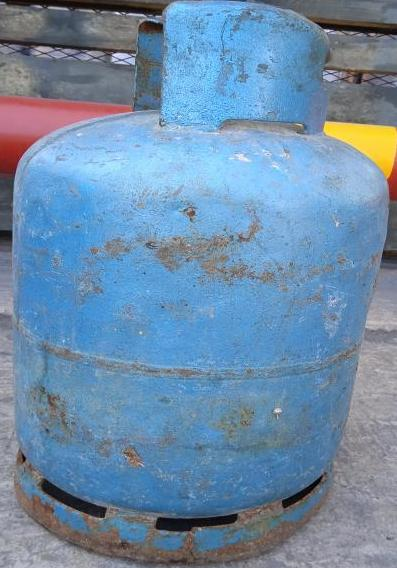cylinder: (1, 1, 397, 568)
